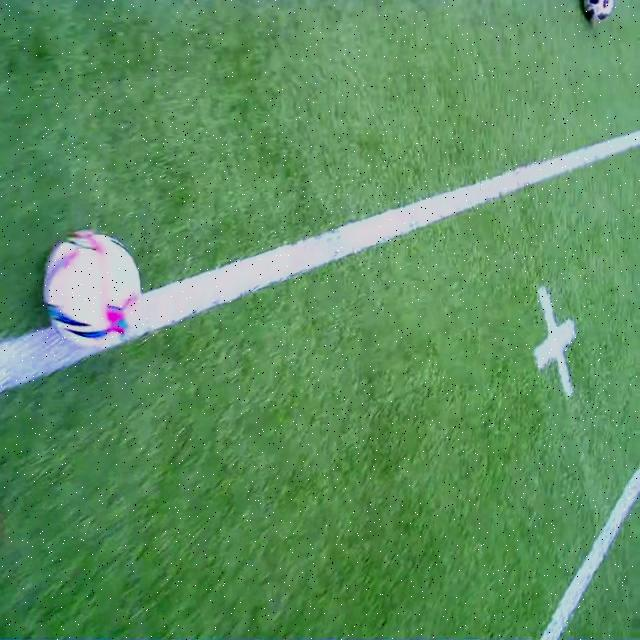ball: (46, 228, 140, 349)
